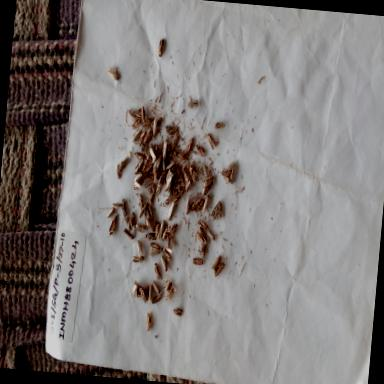pbw: (131, 232, 147, 260), (182, 134, 198, 159), (207, 115, 226, 136), (117, 192, 129, 225), (158, 254, 174, 277), (195, 190, 208, 218), (166, 220, 180, 246), (122, 224, 138, 246), (131, 191, 145, 215), (194, 239, 208, 263), (106, 213, 119, 238), (156, 243, 174, 261), (162, 187, 178, 207), (142, 244, 162, 260), (155, 168, 168, 192), (182, 168, 195, 192), (188, 158, 200, 184), (186, 94, 200, 116), (164, 119, 182, 136), (105, 63, 121, 82), (196, 141, 210, 162), (136, 283, 150, 304), (160, 136, 172, 160), (152, 257, 164, 281), (164, 170, 176, 194), (158, 224, 171, 246), (190, 192, 203, 214), (161, 274, 175, 294), (204, 130, 218, 150), (204, 226, 218, 246), (142, 310, 154, 333), (170, 132, 182, 154), (126, 208, 138, 230), (138, 198, 150, 220), (190, 254, 206, 270), (133, 219, 147, 237), (164, 282, 178, 300), (210, 195, 220, 220), (128, 116, 143, 132), (156, 36, 166, 60), (144, 208, 154, 231), (148, 181, 158, 204), (130, 127, 142, 146), (110, 198, 124, 214), (164, 158, 178, 174), (166, 199, 176, 221), (119, 154, 131, 172), (214, 260, 226, 278), (142, 158, 154, 176), (157, 217, 166, 241), (210, 254, 222, 272), (175, 149, 189, 164), (144, 176, 158, 191), (150, 291, 164, 306), (133, 156, 144, 175), (130, 172, 146, 185), (201, 174, 214, 190), (130, 275, 139, 298), (106, 202, 118, 219), (172, 165, 184, 182), (197, 224, 209, 241), (176, 182, 186, 202), (152, 218, 162, 238), (152, 154, 163, 172), (225, 160, 239, 174), (194, 231, 208, 245), (196, 216, 210, 230), (144, 228, 158, 242), (147, 237, 162, 250), (202, 180, 214, 196), (150, 278, 162, 294), (172, 306, 184, 322), (148, 144, 158, 163), (132, 252, 145, 266), (167, 186, 180, 200), (127, 104, 142, 116), (144, 126, 154, 144), (142, 112, 152, 130), (113, 162, 122, 182), (160, 155, 170, 172), (168, 147, 178, 163), (200, 162, 210, 178), (138, 128, 146, 148), (184, 195, 191, 217), (122, 214, 136, 225), (216, 200, 224, 219), (133, 150, 145, 162), (140, 106, 148, 124), (220, 166, 232, 178), (150, 114, 162, 126), (228, 168, 236, 186), (130, 182, 144, 192), (143, 148, 153, 162), (148, 282, 154, 305), (146, 204, 154, 220), (180, 161, 190, 172), (144, 282, 150, 300), (154, 142, 160, 160), (222, 174, 232, 184)
